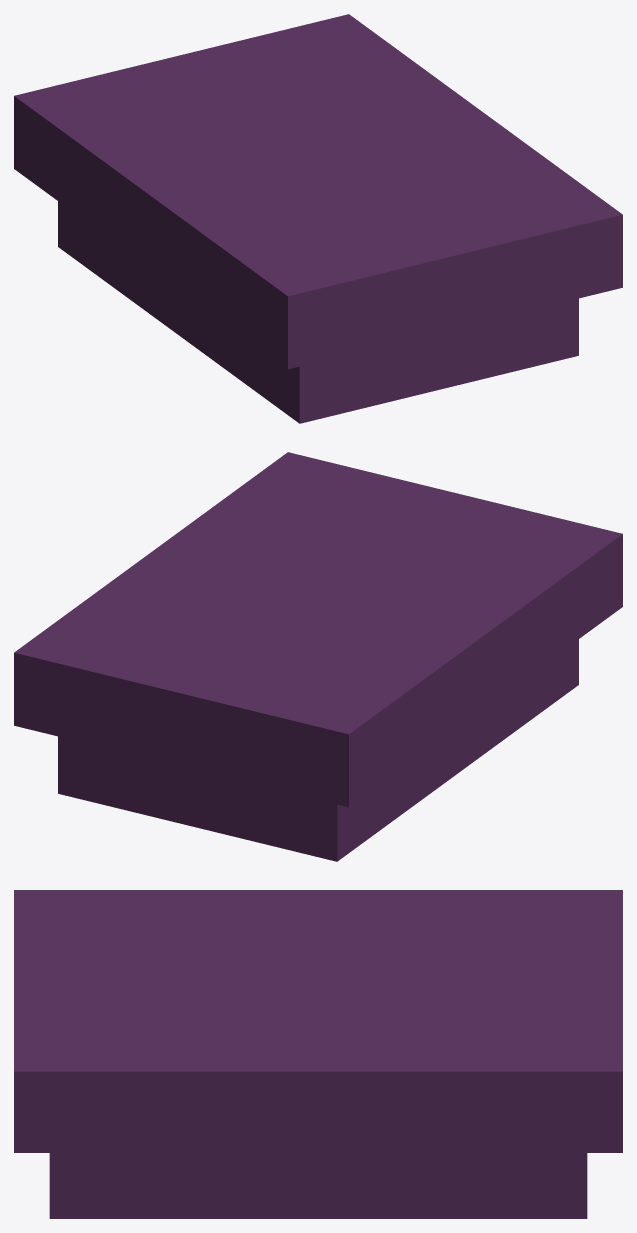
3 renders of one model, top to bottom at view 1: azimuth 30°, elevation 25°; view 2: azimuth 150°, elevation 25°; view 3: azimuth 270°, elevation 25°, orthographic. The views are drawn at different scales.
Visible parts, largest first — view 1: Object_4, Object_5; view 2: Object_4, Object_5; view 3: Object_4, Object_5.
Boxes of the visible parts, x1=… form: Object_4: x1=14, y1=14, x2=622, y2=369; Object_5: x1=58, y1=201, x2=578, y2=423; Object_4: x1=14, y1=452, x2=622, y2=807; Object_5: x1=58, y1=639, x2=578, y2=861; Object_4: x1=14, y1=890, x2=622, y2=1152; Object_5: x1=49, y1=1153, x2=587, y2=1218.
Size of the model in its own units: 2.4 by 1 by 3.4.
